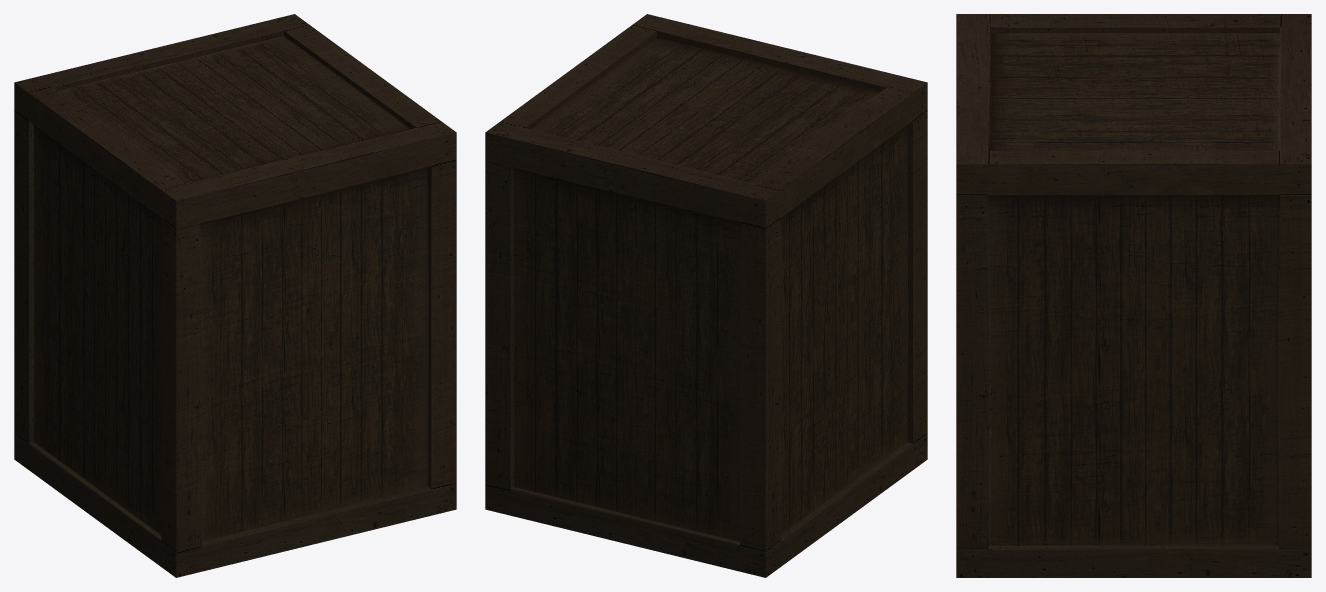
File: wooden_crate_hx_2_1.glb
3 views of the same model, side by side, from view 1: azimuth 30°, elevation 25°; view 2: azimuth 150°, elevation 25°; view 3: azimuth 270°, elevation 25° (orthographic). The views are drawn at different scales.
Visible parts, largest first — view 1: wooden_crate_hx_2_1; view 2: wooden_crate_hx_2_1; view 3: wooden_crate_hx_2_1.
Boxes of the visible parts, x1=… form: wooden_crate_hx_2_1: x1=14, y1=14, x2=456, y2=577; wooden_crate_hx_2_1: x1=485, y1=14, x2=927, y2=577; wooden_crate_hx_2_1: x1=956, y1=14, x2=1311, y2=577.
Bounding box in the file's own units: 1.4 × 1.8 × 1.4.
1 material, 1 textured.
